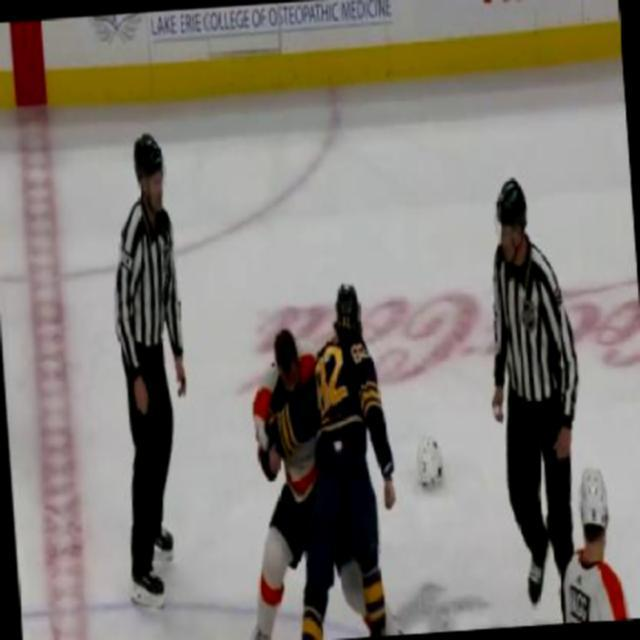fight: (240, 280, 408, 638)
non-fight: (478, 171, 594, 607), (100, 127, 202, 601)
